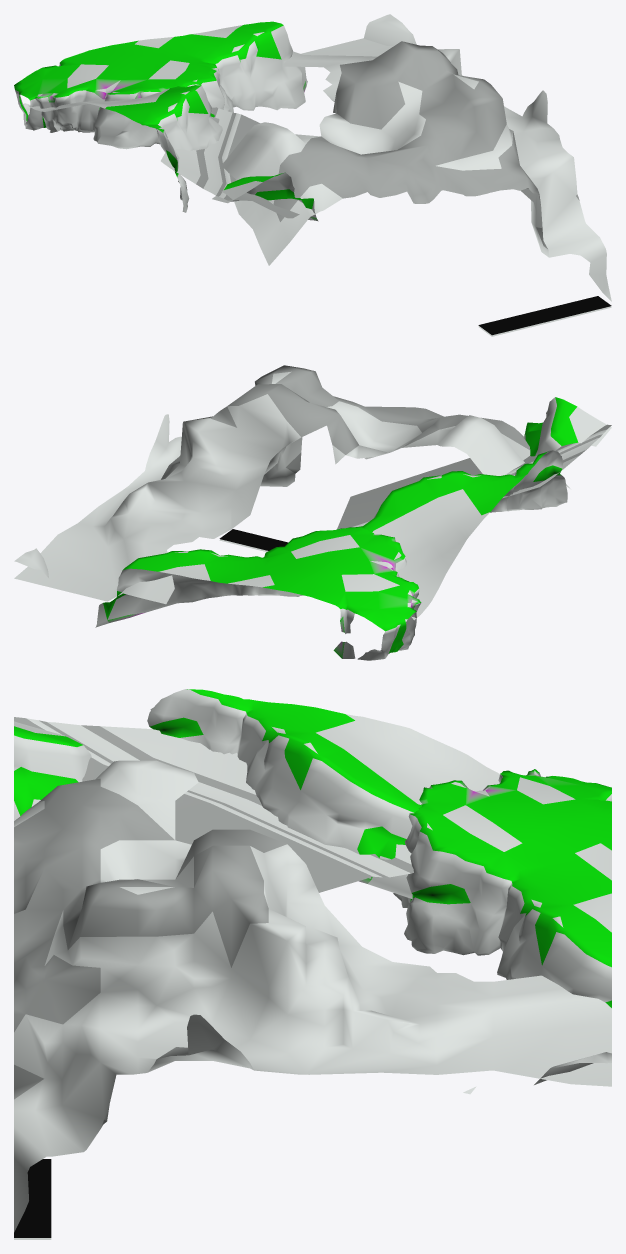
3 views of the same model, one above another, from view 1: azimuth 30°, elevation 25°; view 2: azimuth 150°, elevation 25°; view 3: azimuth 270°, elevation 25° (orthographic). The views are drawn at different scales.
Parts seen in each view (by area): view 1: G:\FFXIV-MapTools\exports\f1f1\bg\ffxiv\fst_f1\fld\f1f1\bgpl (×12); view 2: G:\FFXIV-MapTools\exports\f1f1\bg\ffxiv\fst_f1\fld\f1f1\bgpl (×10); view 3: G:\FFXIV-MapTools\exports\f1f1\bg\ffxiv\fst_f1\fld\f1f1\bgpl (×13).
Part boxes in pixels (x1,y1,x2,y2): G:\FFXIV-MapTools\exports\f1f1\bg\ffxiv\fst_f1\fld\f1f1\bgpl (×12): (14,14,611,336); G:\FFXIV-MapTools\exports\f1f1\bg\ffxiv\fst_f1\fld\f1f1\bgpl (×10): (14,365,611,660); G:\FFXIV-MapTools\exports\f1f1\bg\ffxiv\fst_f1\fld\f1f1\bgpl (×13): (14,689,611,1239).
Bounding box in the file's own units: 128 × 74 × 128.
